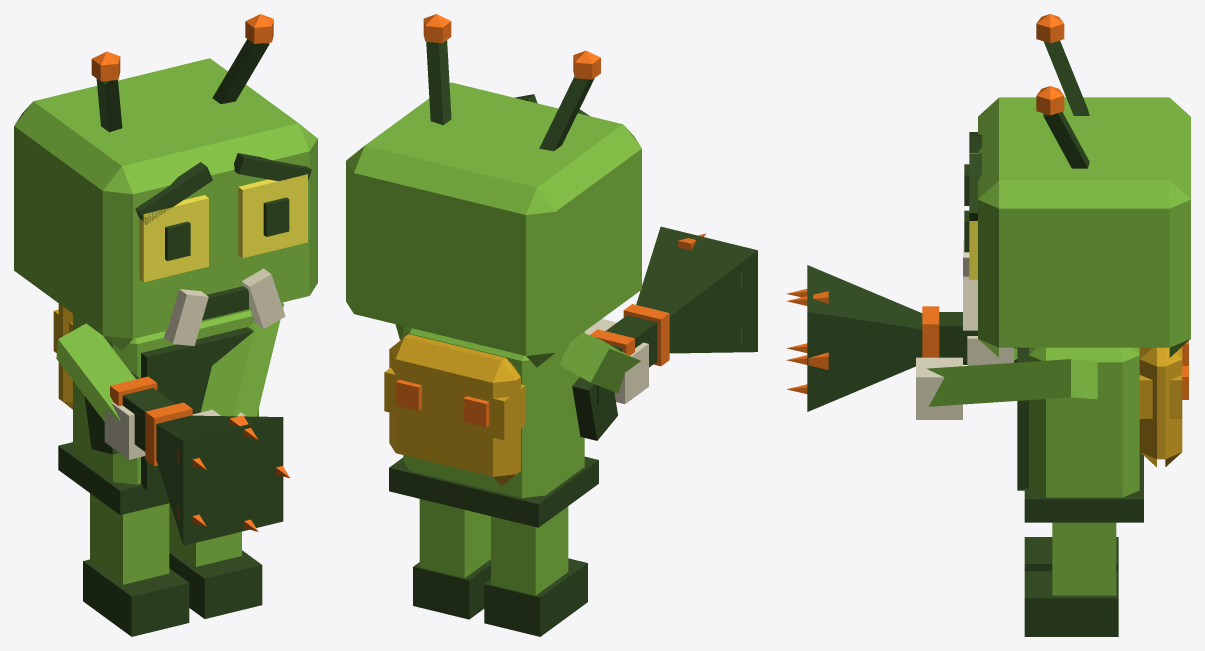
The model's file is shotgunner_r10.glb.
3 views of the same model, side by side, from view 1: azimuth 30°, elevation 25°; view 2: azimuth 150°, elevation 25°; view 3: azimuth 270°, elevation 25° (orthographic). The views are drawn at different scales.
Visible parts, largest first — view 1: shotgunner_r10_mesh; view 2: shotgunner_r10_mesh; view 3: shotgunner_r10_mesh.
Part boxes in pixels (box(x1,y1,x2,y2)): shotgunner_r10_mesh: box(14, 14, 317, 636); shotgunner_r10_mesh: box(346, 14, 757, 636); shotgunner_r10_mesh: box(786, 14, 1190, 636).
Bounding box in the file's own units: 0.6458 × 1.5 × 0.9896.
Materials: 1 (1 with a texture image).
